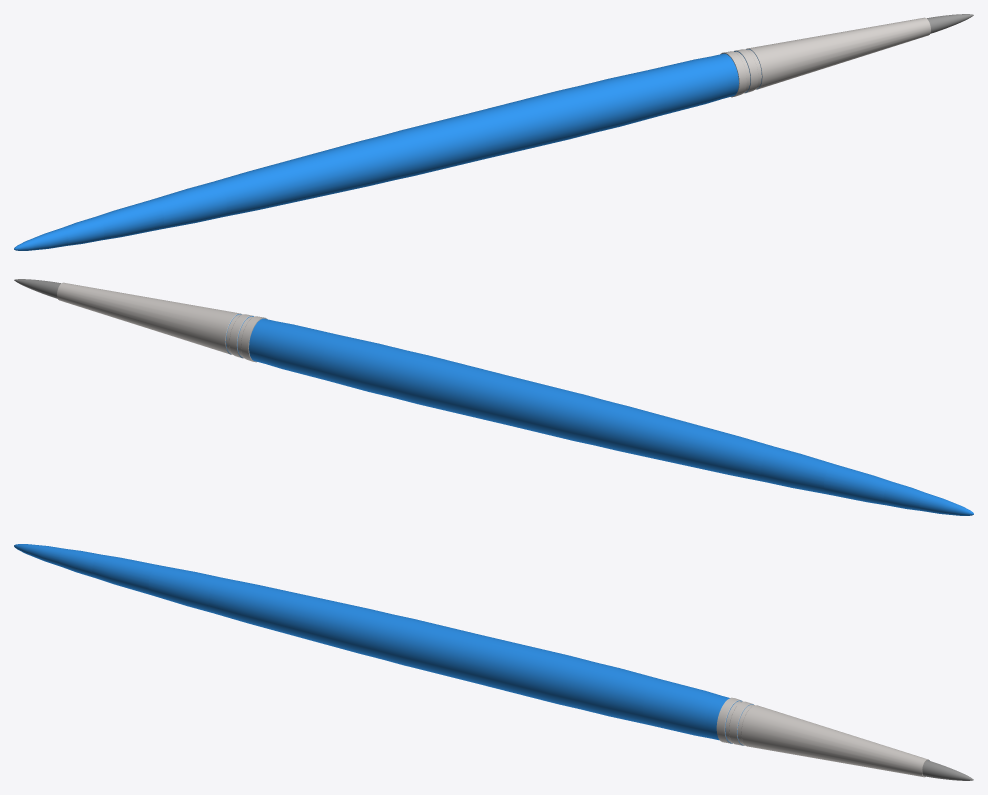
The model's file is brush.fbx.
3 renders of one model, top to bottom at view 1: azimuth 30°, elevation 25°; view 2: azimuth 150°, elevation 25°; view 3: azimuth 330°, elevation 25°, orthographic.
Visible parts, largest first — view 1: cetkica okrugla (×3); view 2: cetkica okrugla (×3); view 3: cetkica okrugla (×4).
Boxes of the visible parts, box(x1,y1,x2,y2) form: cetkica okrugla (×3): box(14, 17, 930, 250); cetkica okrugla (×3): box(57, 282, 973, 515); cetkica okrugla (×4): box(14, 544, 973, 780).
Bounding box in the file's own units: 24.2 × 1.09 × 1.09.
